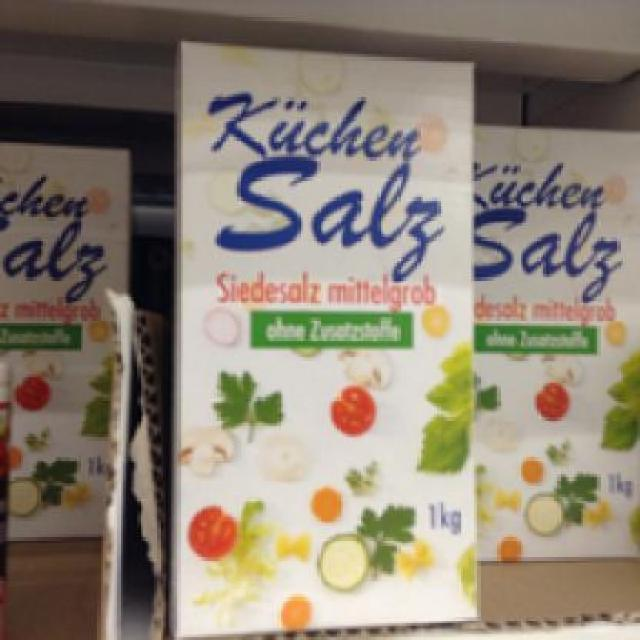Spices: (172, 32, 474, 638), (472, 123, 638, 563), (0, 137, 129, 540)
